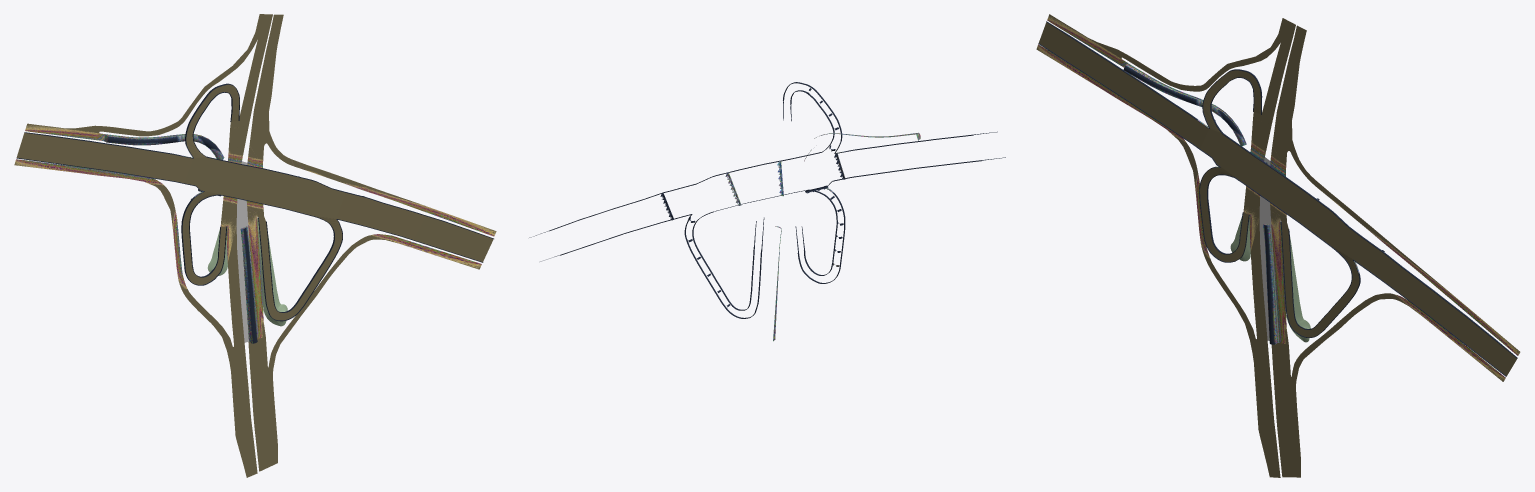
3 renders of one model, left to right at view 1: azimuth 30°, elevation 25°; view 2: azimuth 150°, elevation 25°; view 3: azimuth 330°, elevation 25°, orthographic.
Visible parts, largest first — view 1: world; view 2: world; view 3: world.
Boxes of the visible parts, bbox=[...] form: world: bbox=[14, 14, 496, 477]; world: bbox=[529, 82, 1005, 341]; world: bbox=[1036, 14, 1520, 477].
Size of the model in its own units: 610 by 557 by 8.
1 material, 1 textured.
